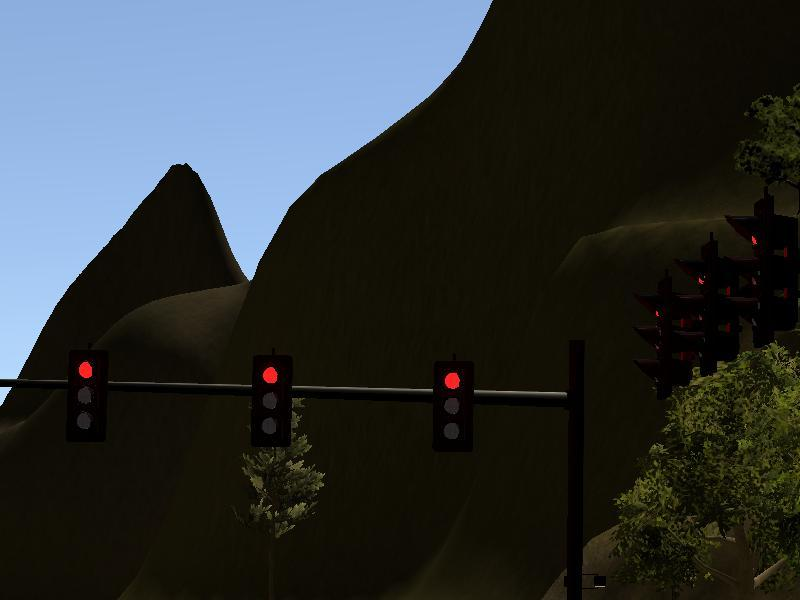Red: (433, 360, 470, 452), (253, 358, 291, 447), (75, 356, 107, 439)
